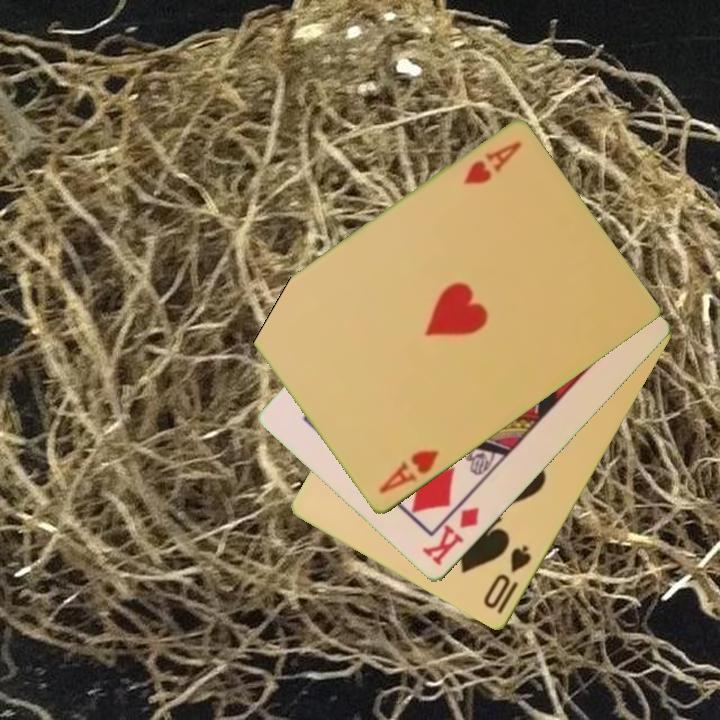10s: (479, 542, 535, 613)
Ah: (375, 447, 442, 498), (459, 138, 524, 189)
Kd: (418, 503, 483, 570)
